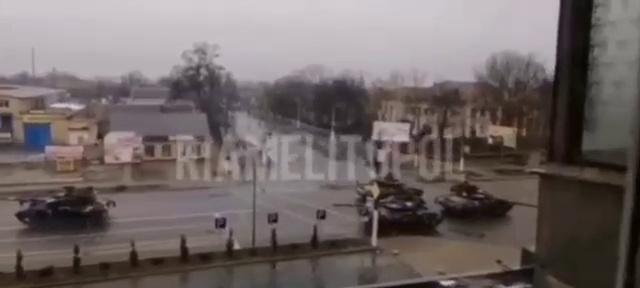tank: (0, 185, 115, 231), (332, 194, 443, 234), (434, 181, 538, 217)
